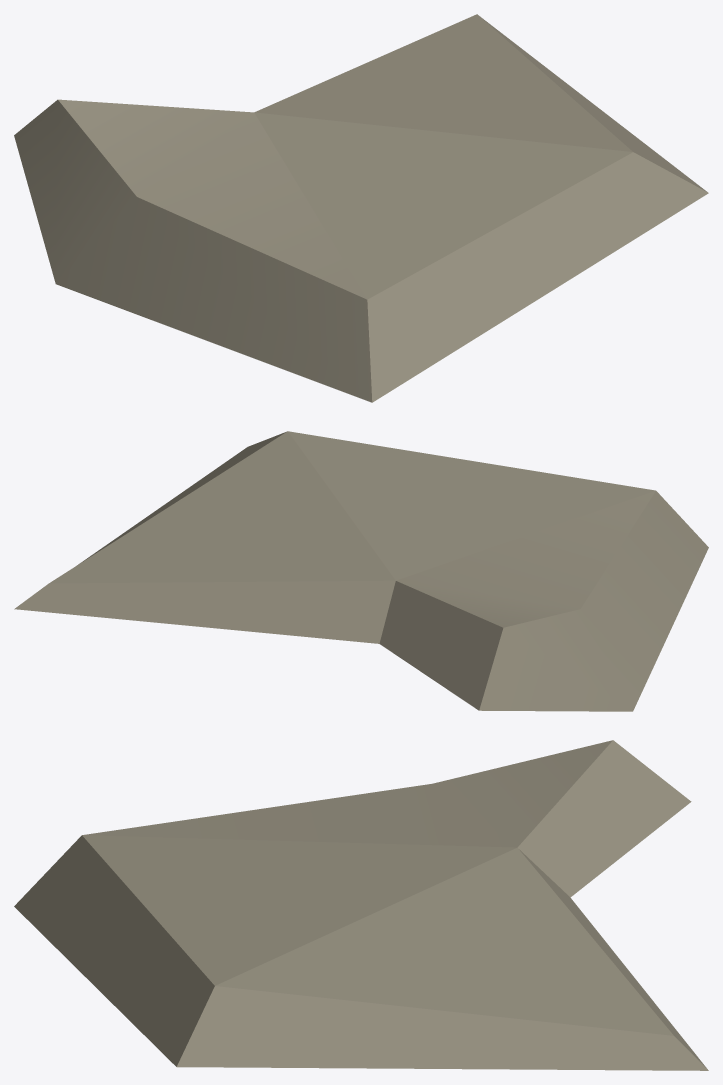
File: Stones_1c.fbx
3 renders of one model, top to bottom at view 1: azimuth 30°, elevation 25°; view 2: azimuth 150°, elevation 25°; view 3: azimuth 270°, elevation 25°, orthographic. The views are drawn at different scales.
Parts seen in each view (by area): view 1: Stones_1c; view 2: Stones_1c; view 3: Stones_1c.
Part boxes in pixels (bbox=[...]): Stones_1c: bbox=[14, 14, 708, 402]; Stones_1c: bbox=[14, 431, 708, 711]; Stones_1c: bbox=[14, 740, 708, 1070].
Bounding box in the file's own units: 37.68 × 8.21 × 37.34.
